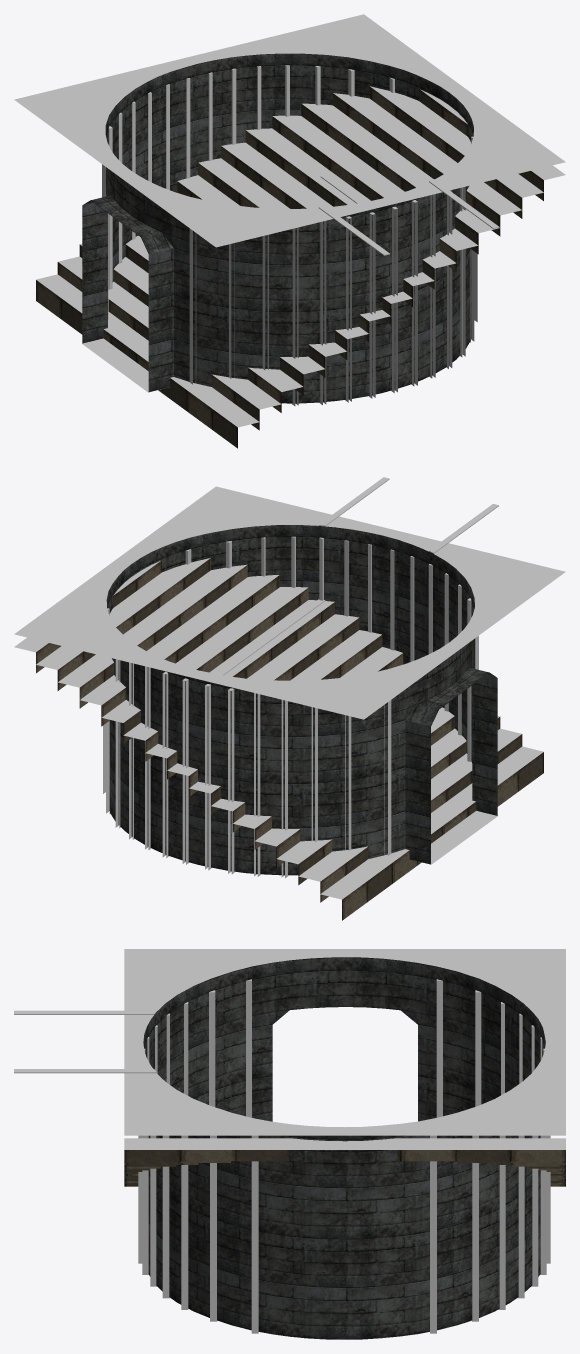
The model's file is altar_stairs.DAE.
The picture shows the model from 3 angles, top to bottom: view 1: azimuth 30°, elevation 25°; view 2: azimuth 150°, elevation 25°; view 3: azimuth 270°, elevation 25°; orthographic projection. The views are drawn at different scales.
Visible parts, largest first — view 1: Plane003, Plane002, Object580, Box039; view 2: Plane003, Plane002, Object580, Box039; view 3: Plane003, Plane002, Box039, Object580.
Part boxes in pixels (bbox=[...]): Plane003: bbox=[82, 53, 473, 403]; Plane002: bbox=[14, 14, 565, 427]; Object580: bbox=[36, 86, 543, 448]; Box039: bbox=[102, 65, 477, 406]; Plane003: bbox=[106, 525, 497, 875]; Plane002: bbox=[14, 477, 565, 899]; Object580: bbox=[36, 558, 543, 920]; Box039: bbox=[103, 536, 478, 878]; Plane003: bbox=[143, 957, 545, 1339]; Plane002: bbox=[14, 949, 565, 1149]; Box039: bbox=[138, 979, 550, 1333]; Object580: bbox=[124, 1150, 565, 1186].
Bounding box in the file's own units: 8 × 10 × 4.53.
